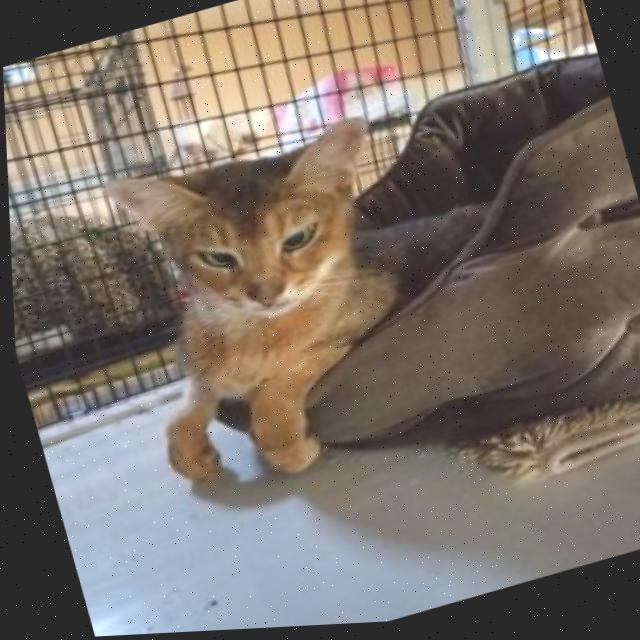Abyssinian: (74, 67, 601, 516)
